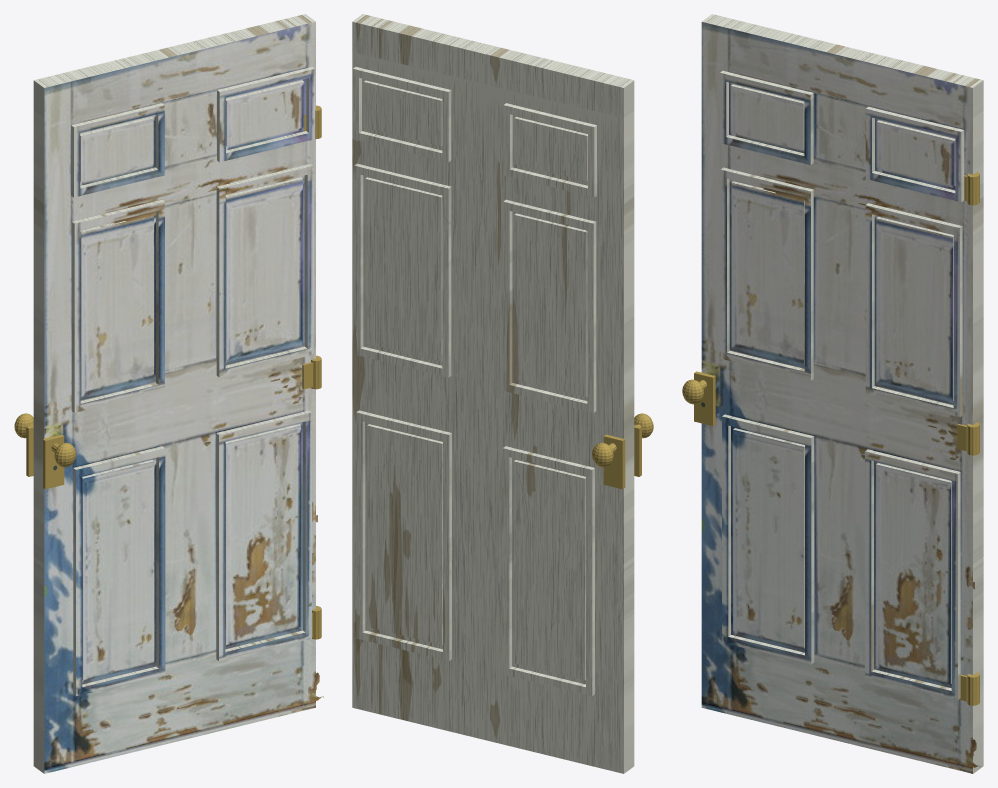
The model's file is DoorLeaf.glb.
3 renders of one model, left to right at view 1: azimuth 30°, elevation 25°; view 2: azimuth 150°, elevation 25°; view 3: azimuth 330°, elevation 25°, orthographic.
Visible parts, largest first — view 1: Geometry_5932C1F0_005, Geometry_0BC887AE_005, Geometry_D93CF93C_005, Geometry_A04354BC_005; view 2: Geometry_0BC887AE_005, Geometry_D93CF93C_005, Geometry_7378BEF7_005, Geometry_A04354BC_005; view 3: Geometry_5932C1F0_005, Geometry_0BC887AE_005, Geometry_D93CF93C_005, Geometry_A04354BC_005.
Part boxes in pixels (bbox=[...]): Geometry_5932C1F0_005: bbox=[44, 22, 323, 773]; Geometry_0BC887AE_005: bbox=[33, 14, 315, 773]; Geometry_D93CF93C_005: bbox=[71, 66, 314, 695]; Geometry_A04354BC_005: bbox=[14, 105, 321, 639]; Geometry_0BC887AE_005: bbox=[352, 14, 634, 773]; Geometry_D93CF93C_005: bbox=[352, 66, 596, 696]; Geometry_7378BEF7_005: bbox=[362, 78, 587, 684]; Geometry_A04354BC_005: bbox=[592, 413, 653, 489]; Geometry_5932C1F0_005: bbox=[701, 22, 980, 773]; Geometry_0BC887AE_005: bbox=[702, 14, 983, 773]; Geometry_D93CF93C_005: bbox=[720, 71, 964, 699]; Geometry_A04354BC_005: bbox=[682, 172, 979, 705].
Bounding box in the file's own units: 0.9051 × 2.1 × 0.2739.
Materials: 7 (4 with a texture image).
